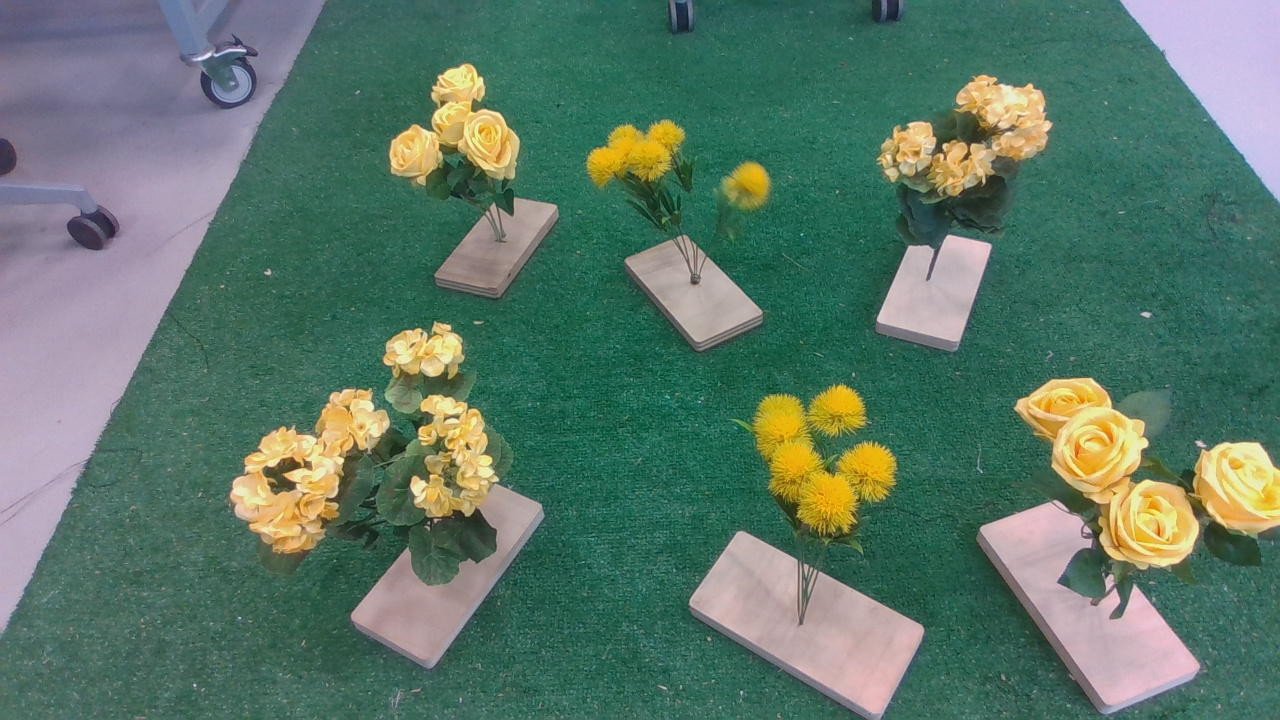dandelion: (723, 382, 908, 565), (579, 122, 782, 240)
geranium: (228, 325, 520, 588), (872, 72, 1062, 261)
rose: (1008, 372, 1280, 616), (389, 66, 530, 236)
